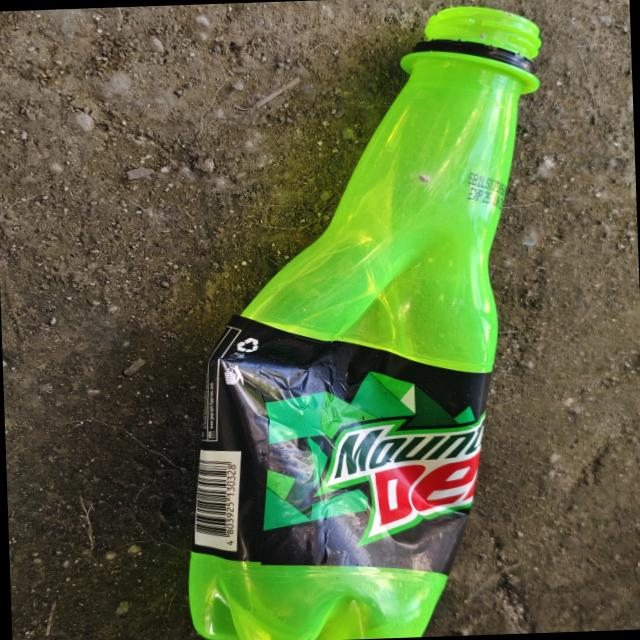Bottle: (183, 3, 540, 640)
